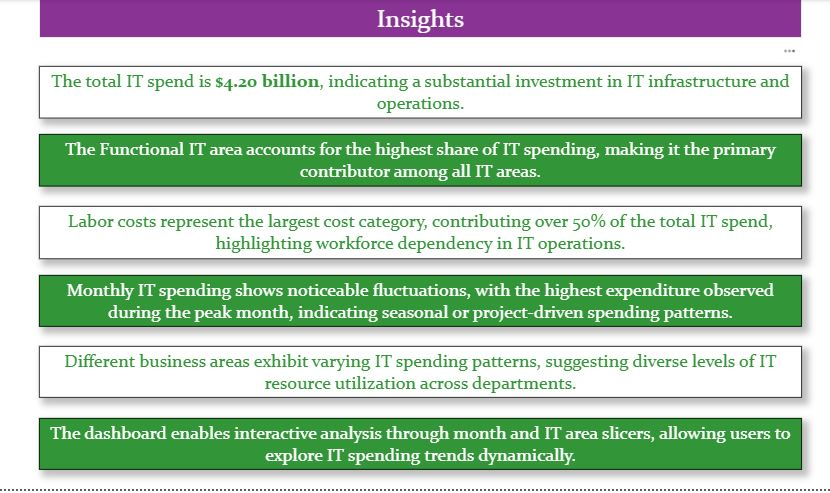

The page's visual inventory and layout, read from the dashboard file:
{"tool":"powerbi","page":{"name":"Insights","canvas":[1280,720],"ordinal":1},"visuals":[{"type":"textbox","box":[117.6,98.4,1121.1,77],"z":0},{"type":"textbox","box":[117.6,0,1121.1,57.3],"z":1000},{"type":"textbox","box":[117.6,304.2,1121.1,77.9],"z":2000},{"type":"textbox","box":[117.6,198.4,1121.1,77],"z":3000},{"type":"textbox","box":[117.6,405.6,1121.1,76.4],"z":4000},{"type":"textbox","box":[117.6,509.9,1121.1,76.4],"z":5000},{"type":"textbox","box":[117.6,615.7,1121.1,76.4],"z":6000}]}

Visuals, with their boxes in screenshot pixels (x1, y1, x2, y2):
textbox: region(38, 61, 808, 114)
textbox: region(38, 0, 808, 33)
textbox: region(38, 203, 808, 256)
textbox: region(38, 130, 808, 183)
textbox: region(38, 272, 808, 325)
textbox: region(38, 344, 808, 397)
textbox: region(38, 417, 808, 469)
